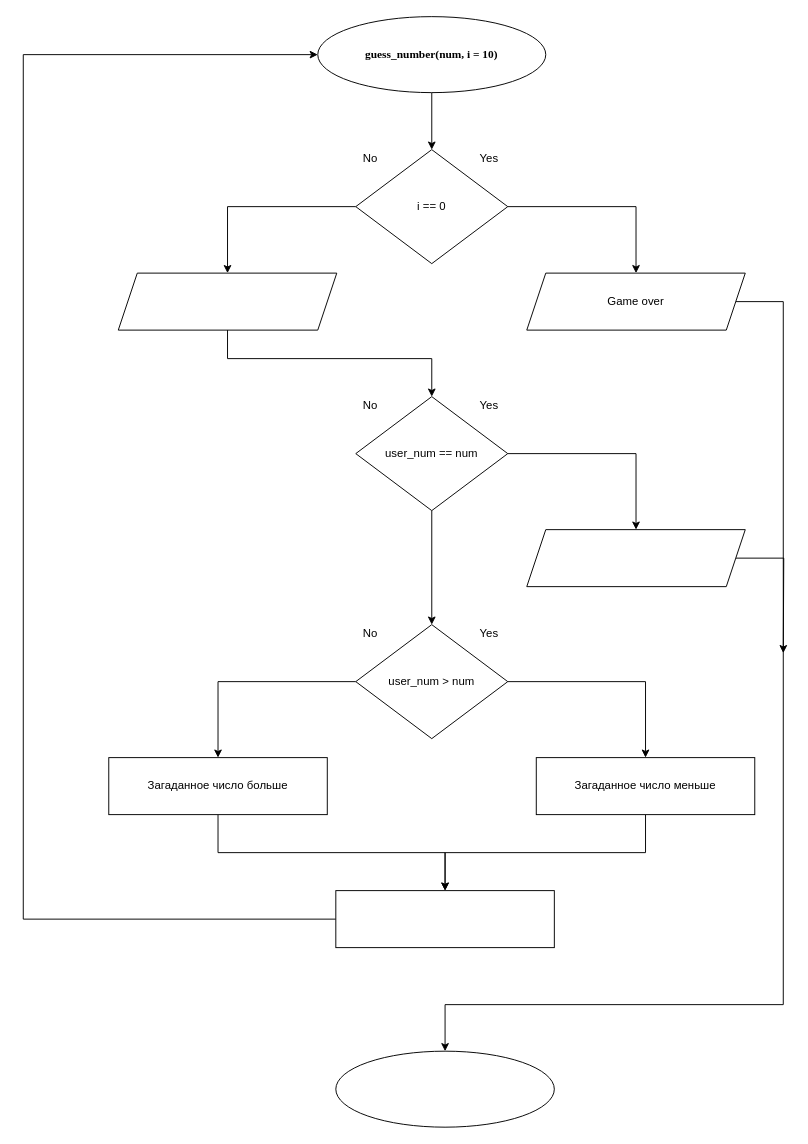
Some shapes in this 808 by 1144 pixel diagram are drawn without their labels. The shapes that lost their labels are listed below. From the top down, each one's centre as x and y in pixels, then its label:
At (227,301): "user_num".
At (635,558): "Win".
At (444,919): "i - 1".
At (444,1088): "Конец".
